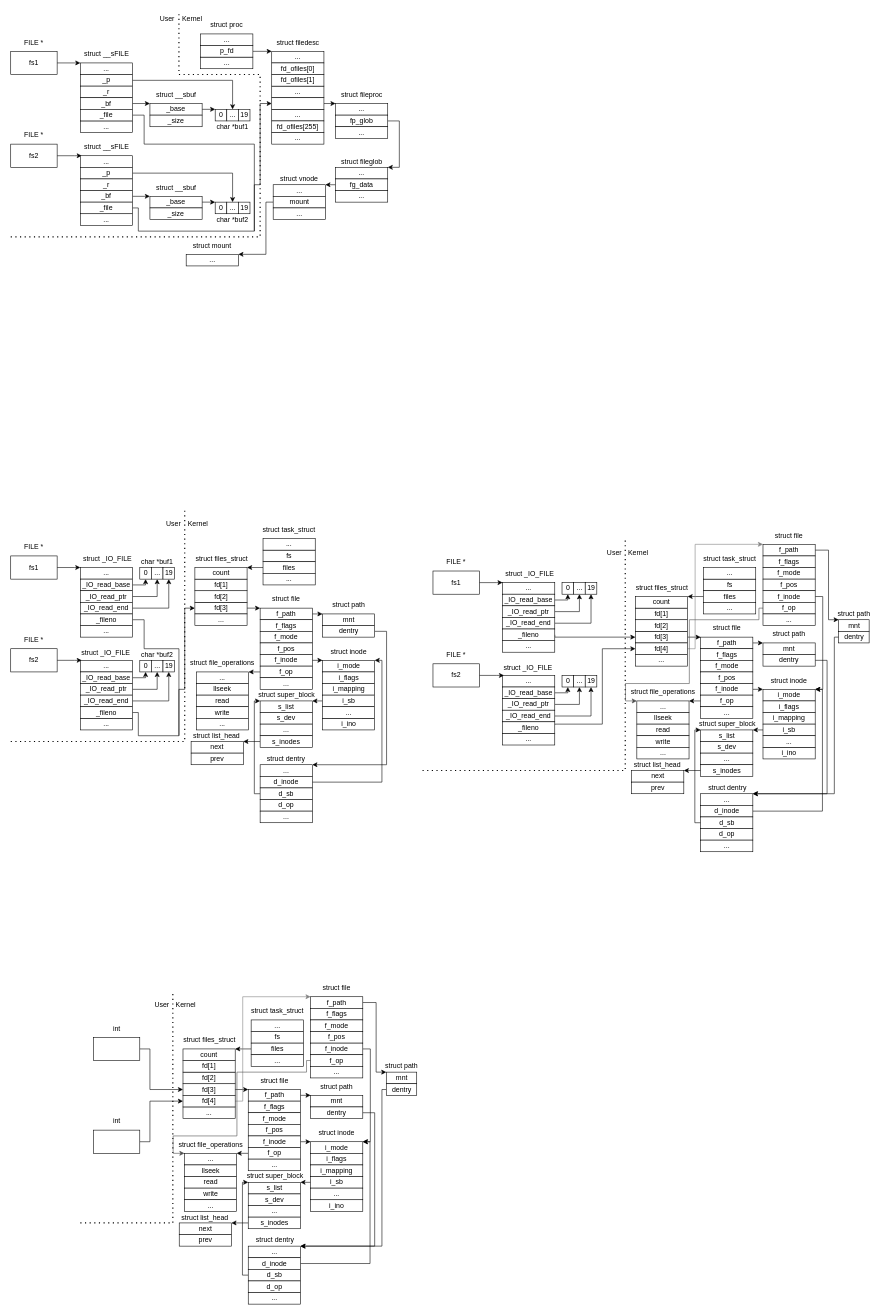
The diagram is 893 pixels wide and 1314 high, and some of its shapes have lost their labels. The shapes that lost their labels are listed below. From the top down, each one's centre as x and y in pixels, then its label:
At (x=297, y=103): "fd_ofiles[fd]".
At (x=116, y=1049): "fd1".
At (x=116, y=1141): "fd2".
